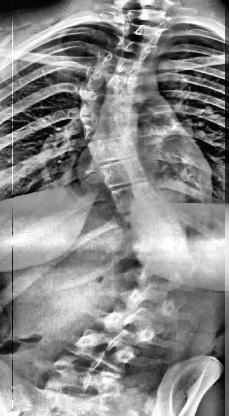Vertebrae: (67, 329, 141, 373), (122, 284, 190, 324), (101, 308, 169, 346), (132, 260, 210, 292), (52, 353, 124, 387), (108, 178, 172, 216), (137, 233, 204, 267), (125, 212, 187, 247), (75, 86, 147, 116), (76, 110, 144, 140), (95, 157, 153, 191), (81, 64, 151, 92), (87, 134, 143, 164), (91, 48, 155, 74), (107, 32, 159, 62)
